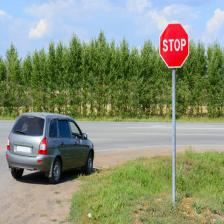Stop-sign: (158, 15, 192, 70)
